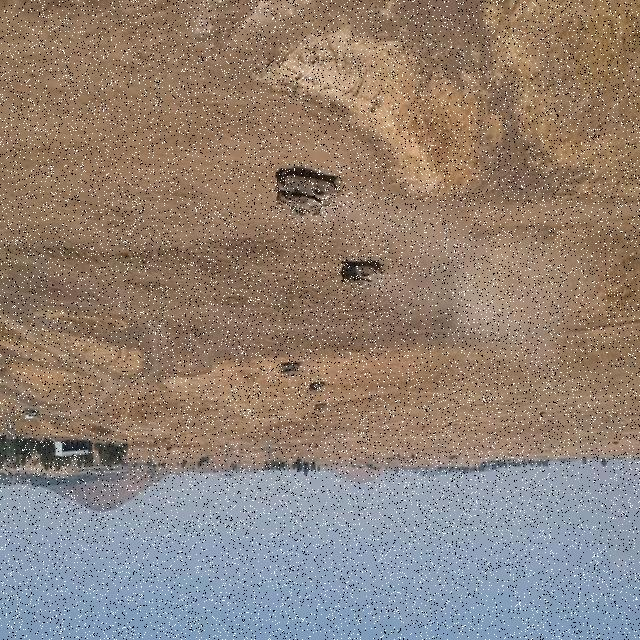MIL_MBT: (273, 172, 353, 217), (343, 257, 388, 297), (280, 356, 305, 381), (306, 378, 329, 400), (314, 402, 327, 418)
